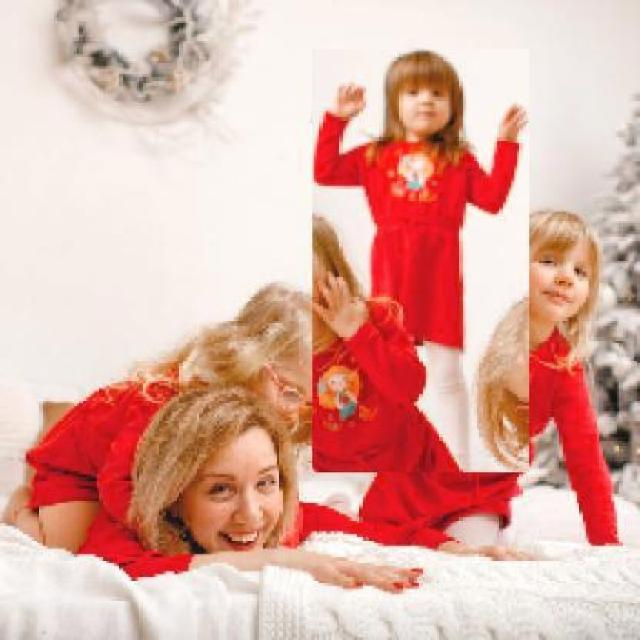child: (3, 280, 366, 557), (311, 49, 529, 474), (358, 207, 622, 547)
